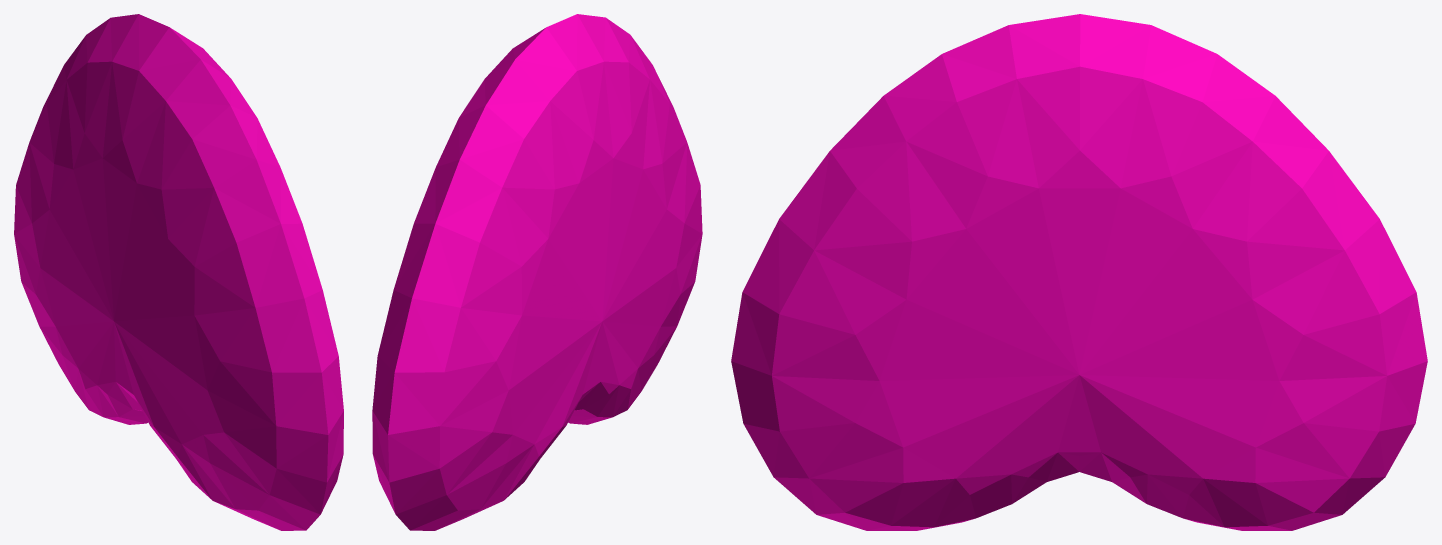
The model's file is heart.obj.
3 views of the same model, side by side, from view 1: azimuth 30°, elevation 25°; view 2: azimuth 150°, elevation 25°; view 3: azimuth 270°, elevation 25° (orthographic). The views are drawn at different scales.
Parts seen in each view (by area): view 1: Circle; view 2: Circle; view 3: Circle.
Boxes of the visible parts, x1=… form: Circle: x1=14, y1=14, x2=343, y2=530; Circle: x1=372, y1=14, x2=702, y2=530; Circle: x1=731, y1=14, x2=1427, y2=530.
Size of the model in its own units: 1.75 by 5.6 by 6.94.
